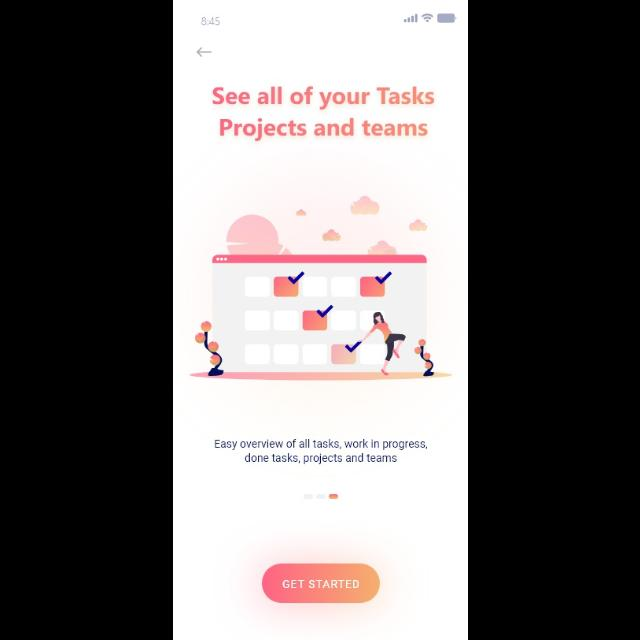icon: (195, 48, 212, 58)
image: (190, 196, 452, 380)
pageindicator: (302, 494, 340, 501)
text: (212, 86, 434, 142), (215, 439, 428, 465)
textbutton: (262, 564, 381, 602)
uppertaskbar: (200, 14, 456, 26)
